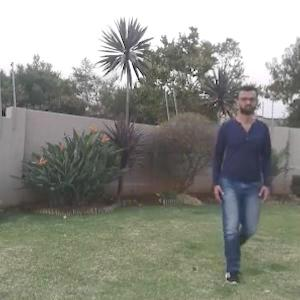follow: (216, 95, 263, 261)
